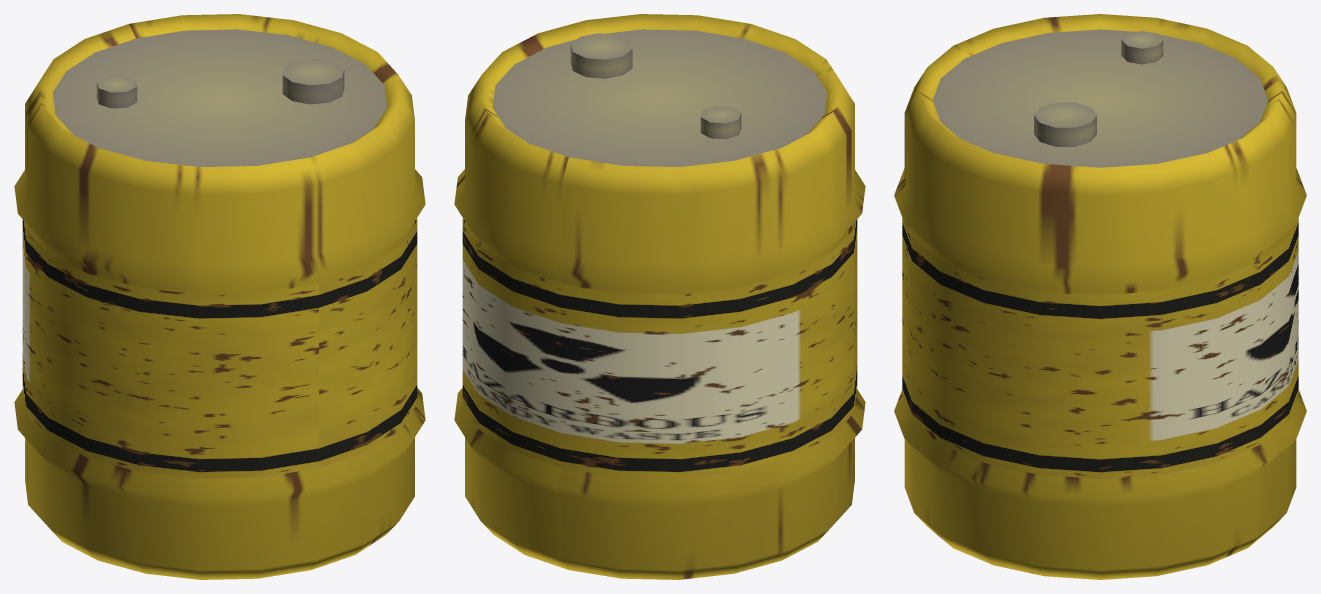
The model's file is candywaste.obj.
The picture shows the model from 3 angles, left to right: view 1: azimuth 30°, elevation 25°; view 2: azimuth 150°, elevation 25°; view 3: azimuth 270°, elevation 25°; orthographic projection.
Parts seen in each view (by area): view 1: candywaste_0_surface; view 2: candywaste_0_surface; view 3: candywaste_0_surface.
Part boxes in pixels (x1,y1,x2,y2): candywaste_0_surface: (14,14,425,579); candywaste_0_surface: (454,14,865,579); candywaste_0_surface: (894,14,1306,579).
Bounding box in the file's own units: 0.118 × 0.134 × 0.118.
1 material, 1 textured.
